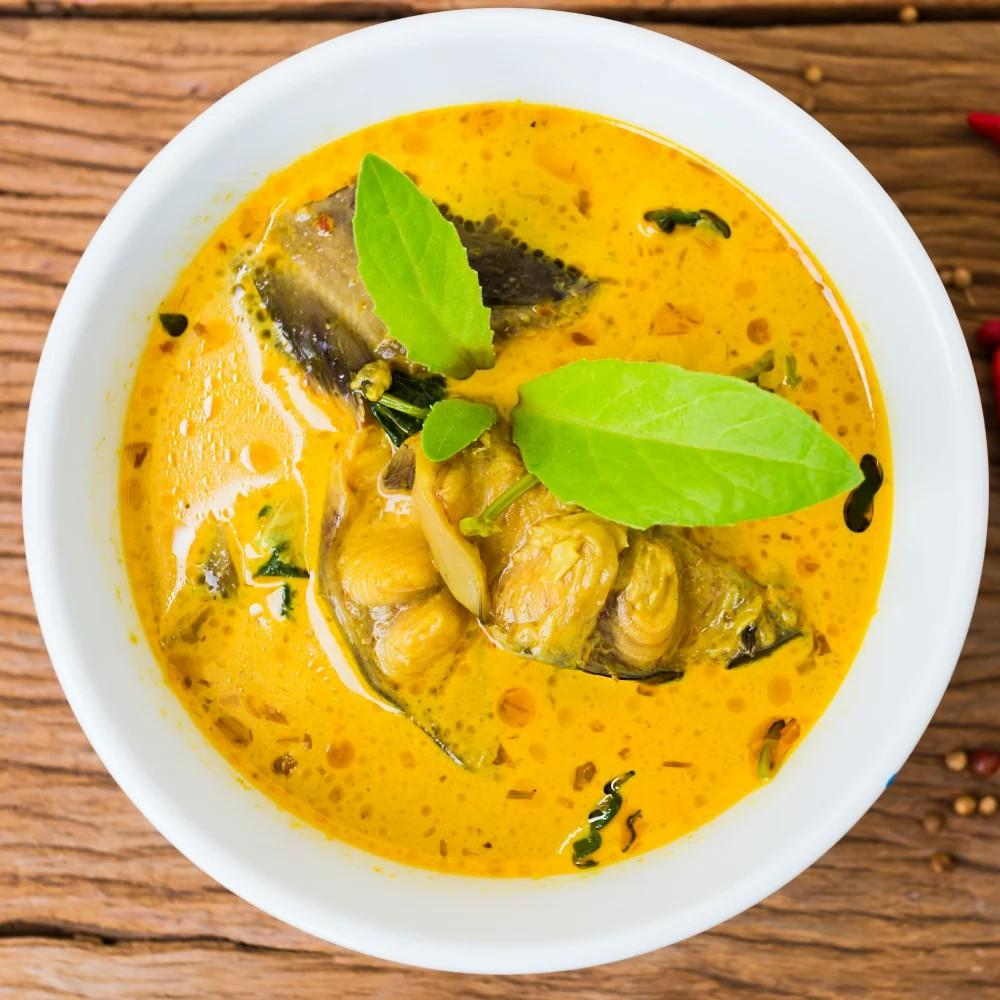FishCurry: (121, 109, 898, 869)
